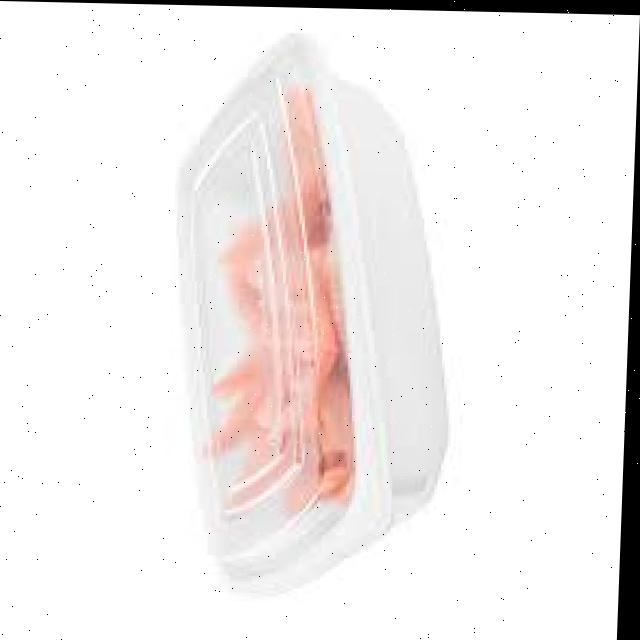disposable: (163, 45, 463, 602)
